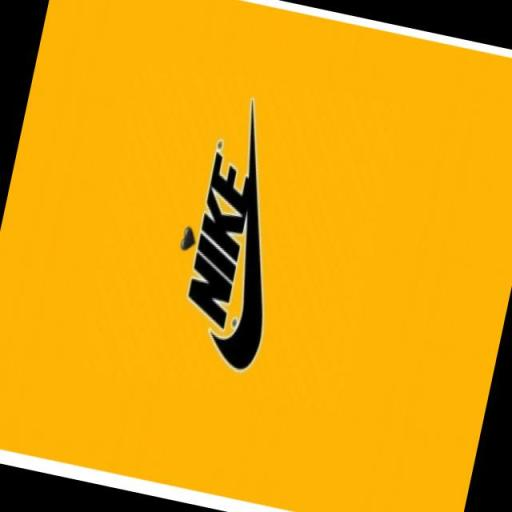Nike: (195, 95, 314, 376), (178, 154, 261, 331)
